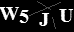5: (19, 9, 30, 24)
J: (38, 12, 49, 26)
U: (58, 8, 74, 23)
W: (1, 6, 20, 21)
